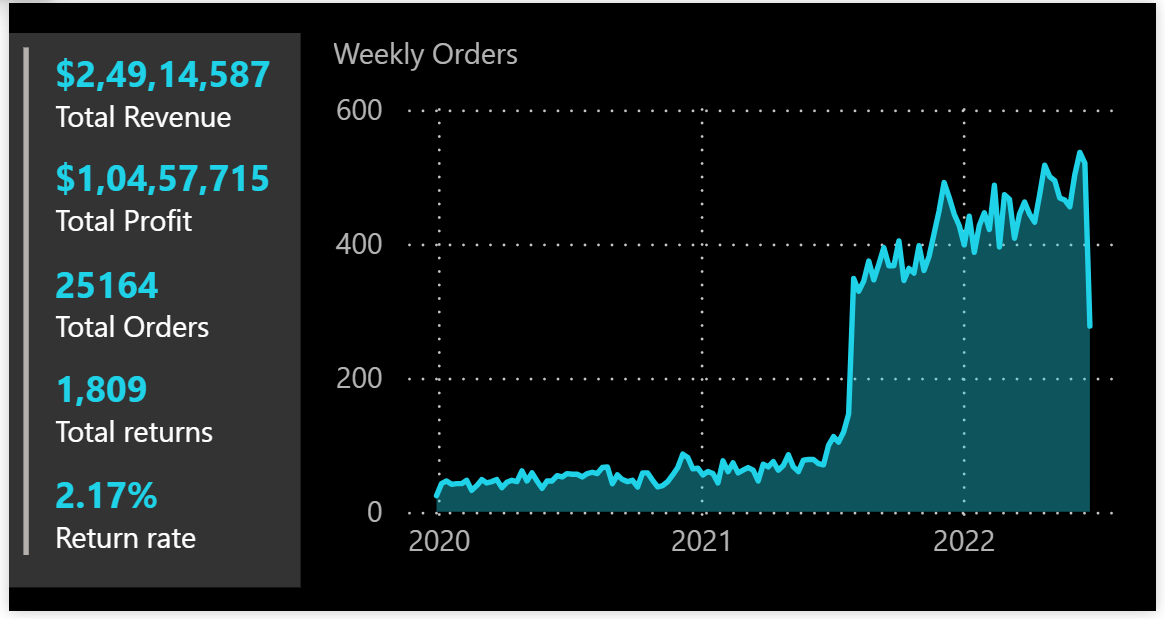

The page's visual inventory and layout, read from the dashboard file:
{"tool":"powerbi","page":{"name":"Custom  Tooltip","canvas":[425,225],"ordinal":4},"visuals":[{"type":"multiRowCard","fields":{"Values":["Measures table (non_dax).Total Revenue","Measures table (non_dax).Total Profit","Measures table (non_dax).Total Orders","Measures table (non_dax).Total returns","Measures table (non_dax).Return rate"]},"box":[0,11,108,205],"z":0},{"type":"areaChart","title":"Weekly Orders","fields":{"Category":["Calendar Lookup.Start of Week"],"Y":["Measures table (non_dax).Total Orders"]},"box":[115,11,302,205],"z":1}]}

Visuals, with their boxes in screenshot pixels (x1, y1, x2, y2), scaled from the page's 425x225 canvas onto the 1165x619 screenshot:
multiRowCard - Measures table (non_dax).Total Revenue x Measures table (non_dax).Total Profit: bbox(0, 30, 296, 594)
"Weekly Orders" areaChart: bbox(315, 30, 1143, 594)
